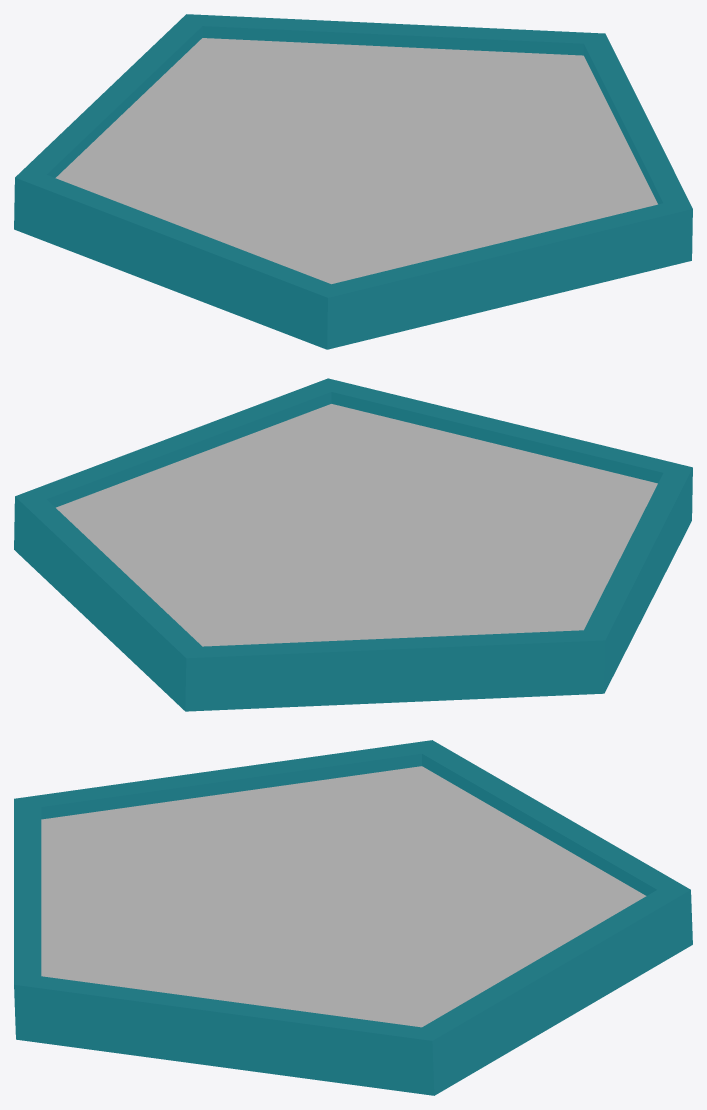
Rendered from SFI0210023.fbx.
3 renders of one model, top to bottom at view 1: azimuth 30°, elevation 25°; view 2: azimuth 150°, elevation 25°; view 3: azimuth 270°, elevation 25°, orthographic. The views are drawn at different scales.
Parts seen in each view (by area): view 1: smSFI0210023; view 2: smSFI0210023; view 3: smSFI0210023.
Boxes of the visible parts, bbox=[...] form: smSFI0210023: bbox=[14, 14, 692, 349]; smSFI0210023: bbox=[14, 378, 692, 711]; smSFI0210023: bbox=[14, 740, 692, 1095].
Size of the model in its own units: 137 by 12.08 by 130.
